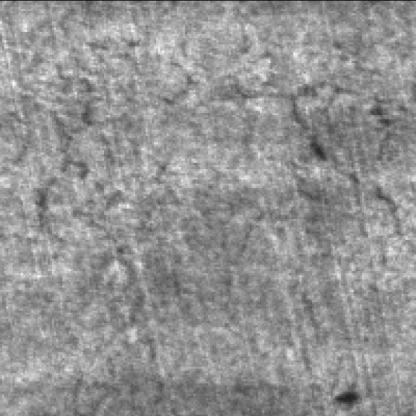crazing: (37, 71, 172, 407), (287, 70, 410, 256)
